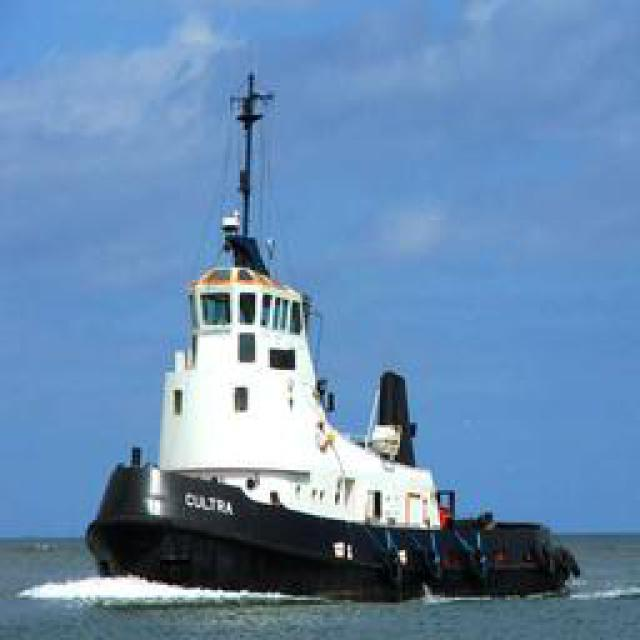Ship: (110, 61, 503, 599)
